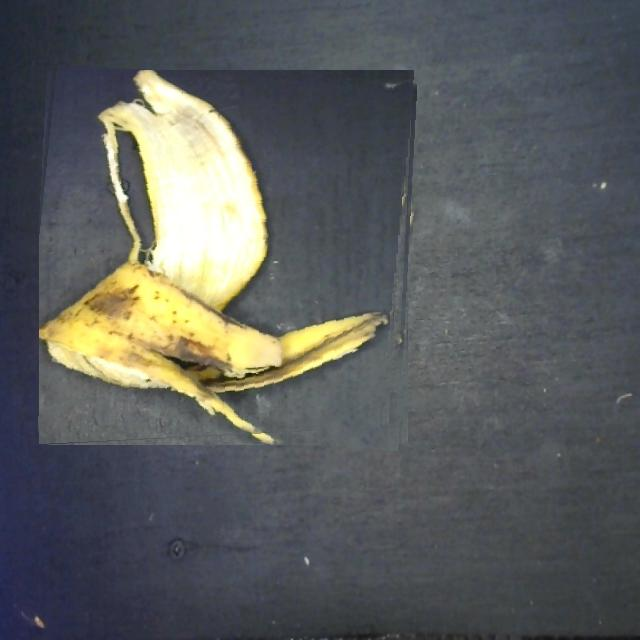biodegradable: (39, 70, 415, 446)
